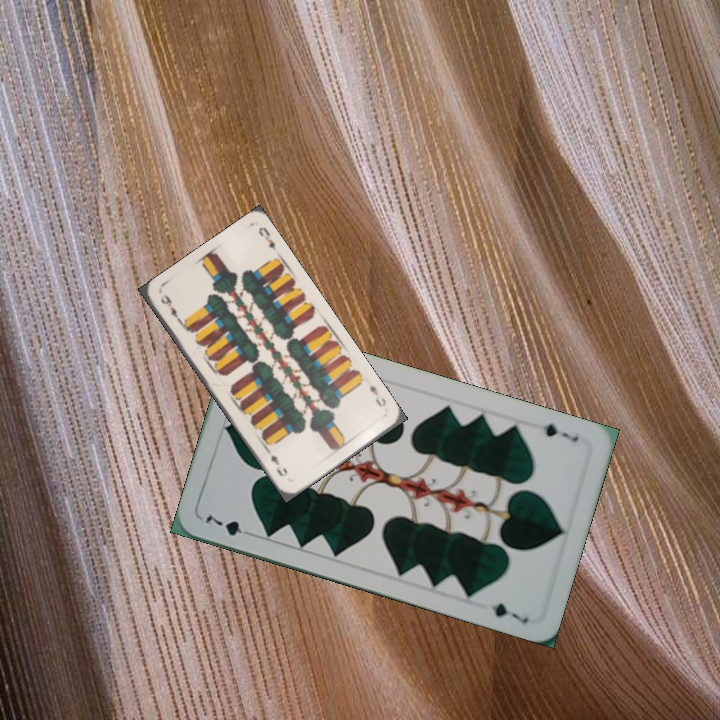E9: (156, 290, 185, 327), (365, 381, 389, 410)
G7: (200, 511, 257, 539), (539, 419, 581, 444)
